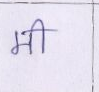i_matra: (34, 18, 49, 53)
